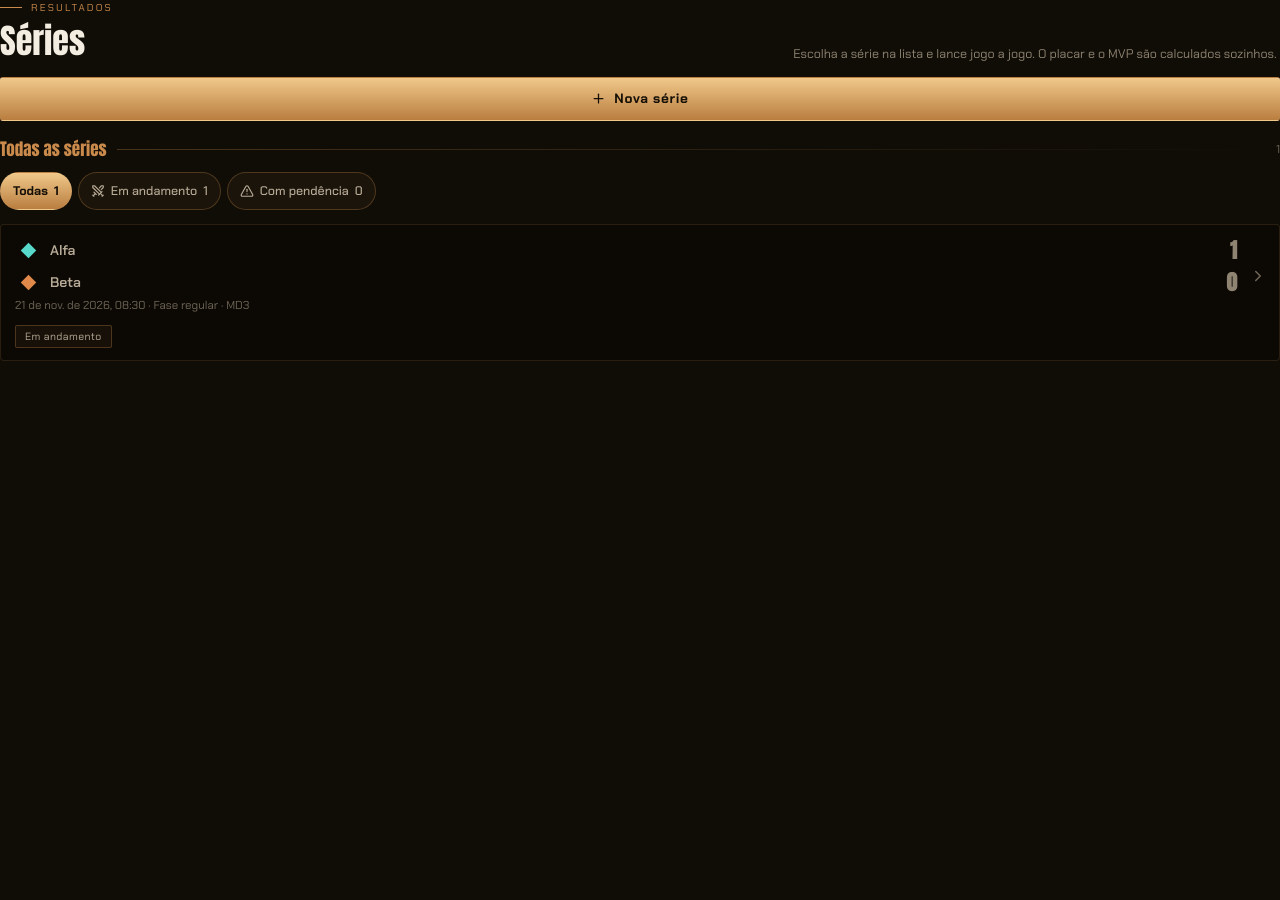
Test: Séries no celular › excluir pelo rodapé da folha pede confirmação e, confirmado, fecha a folha
Click the button with aria-label "Abrir a série Alfa x Beta" at (65, 282), box [15,237,1237,295]
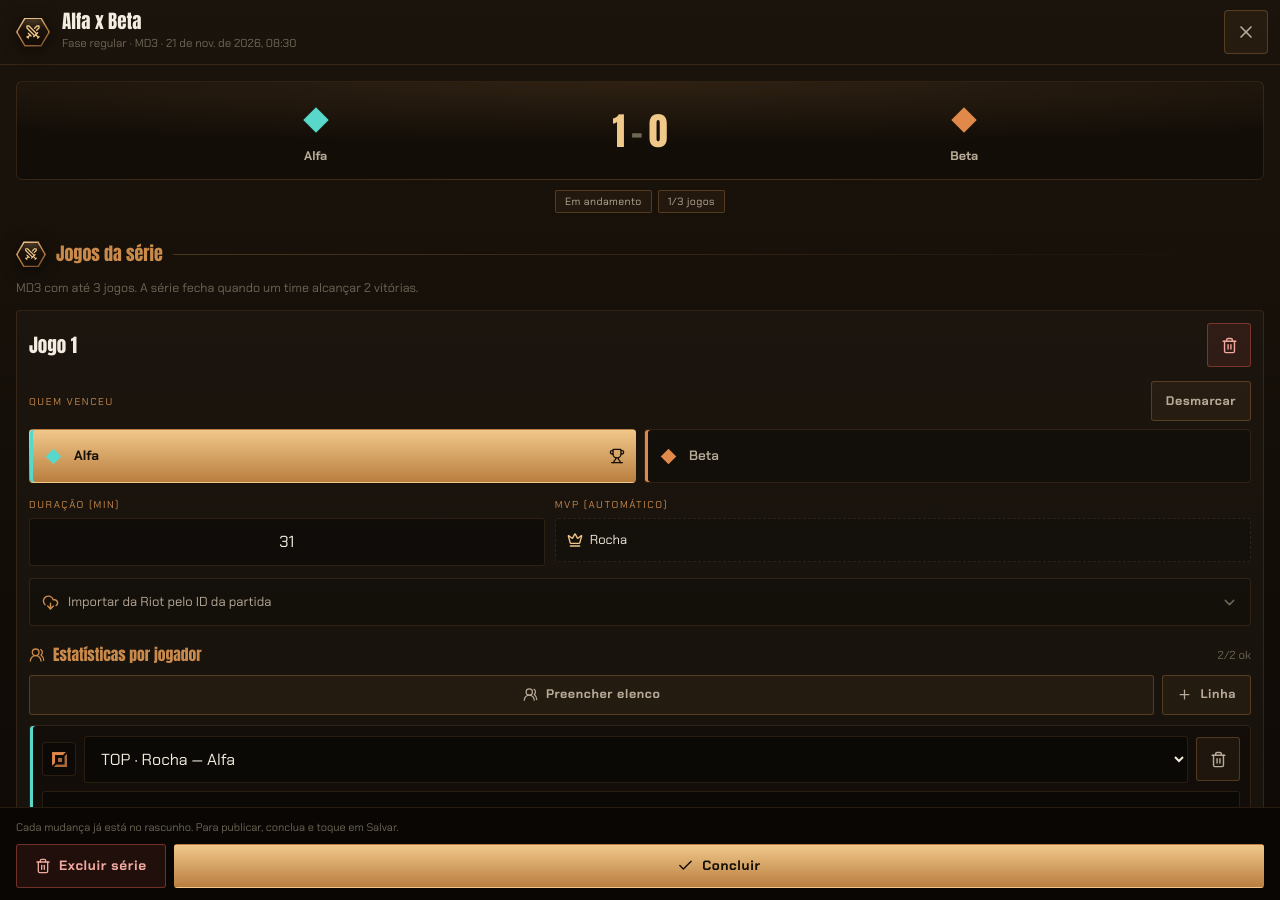
Click the button "Excluir série" at (91, 866), box [16,844,166,888]
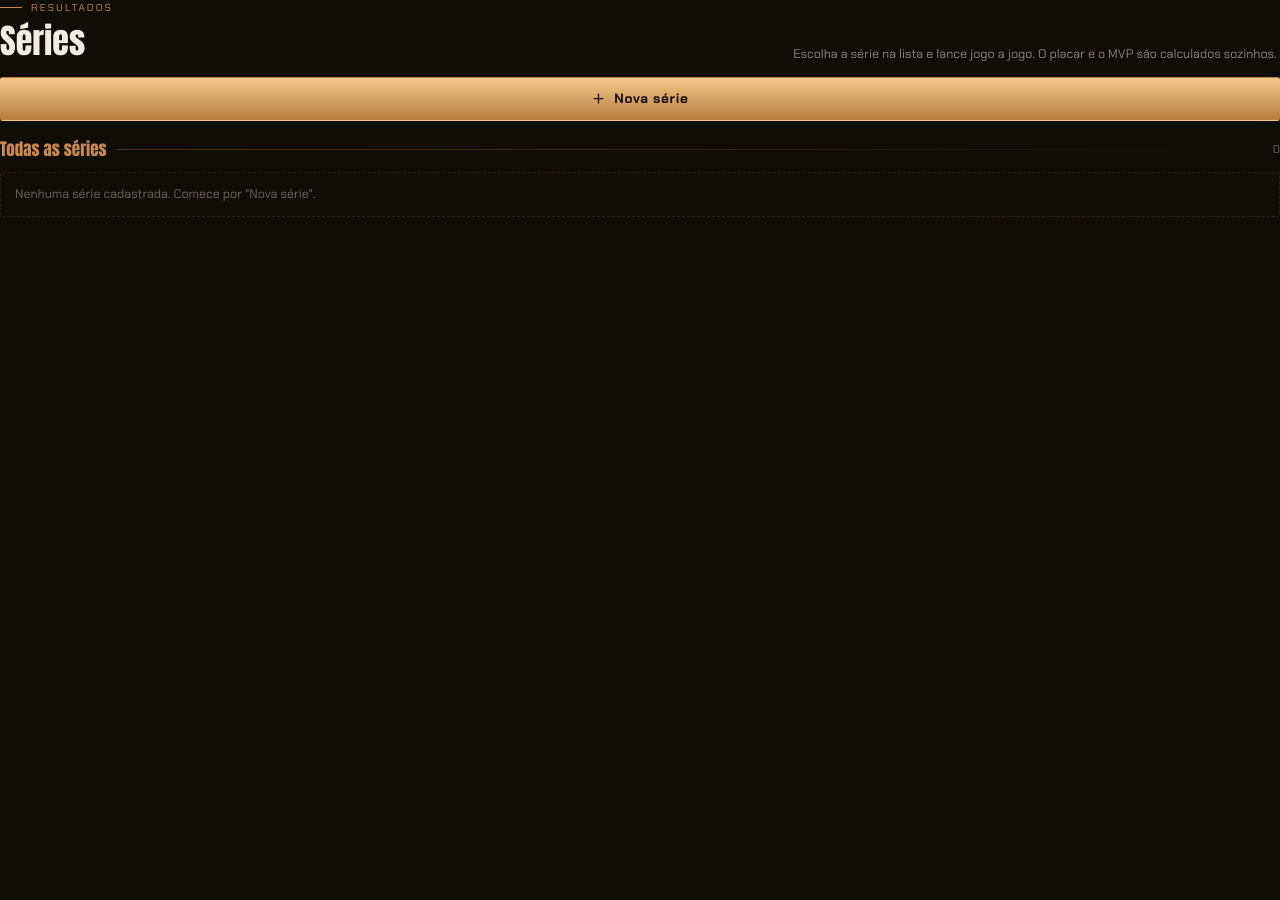
Check: the dialog is gone
